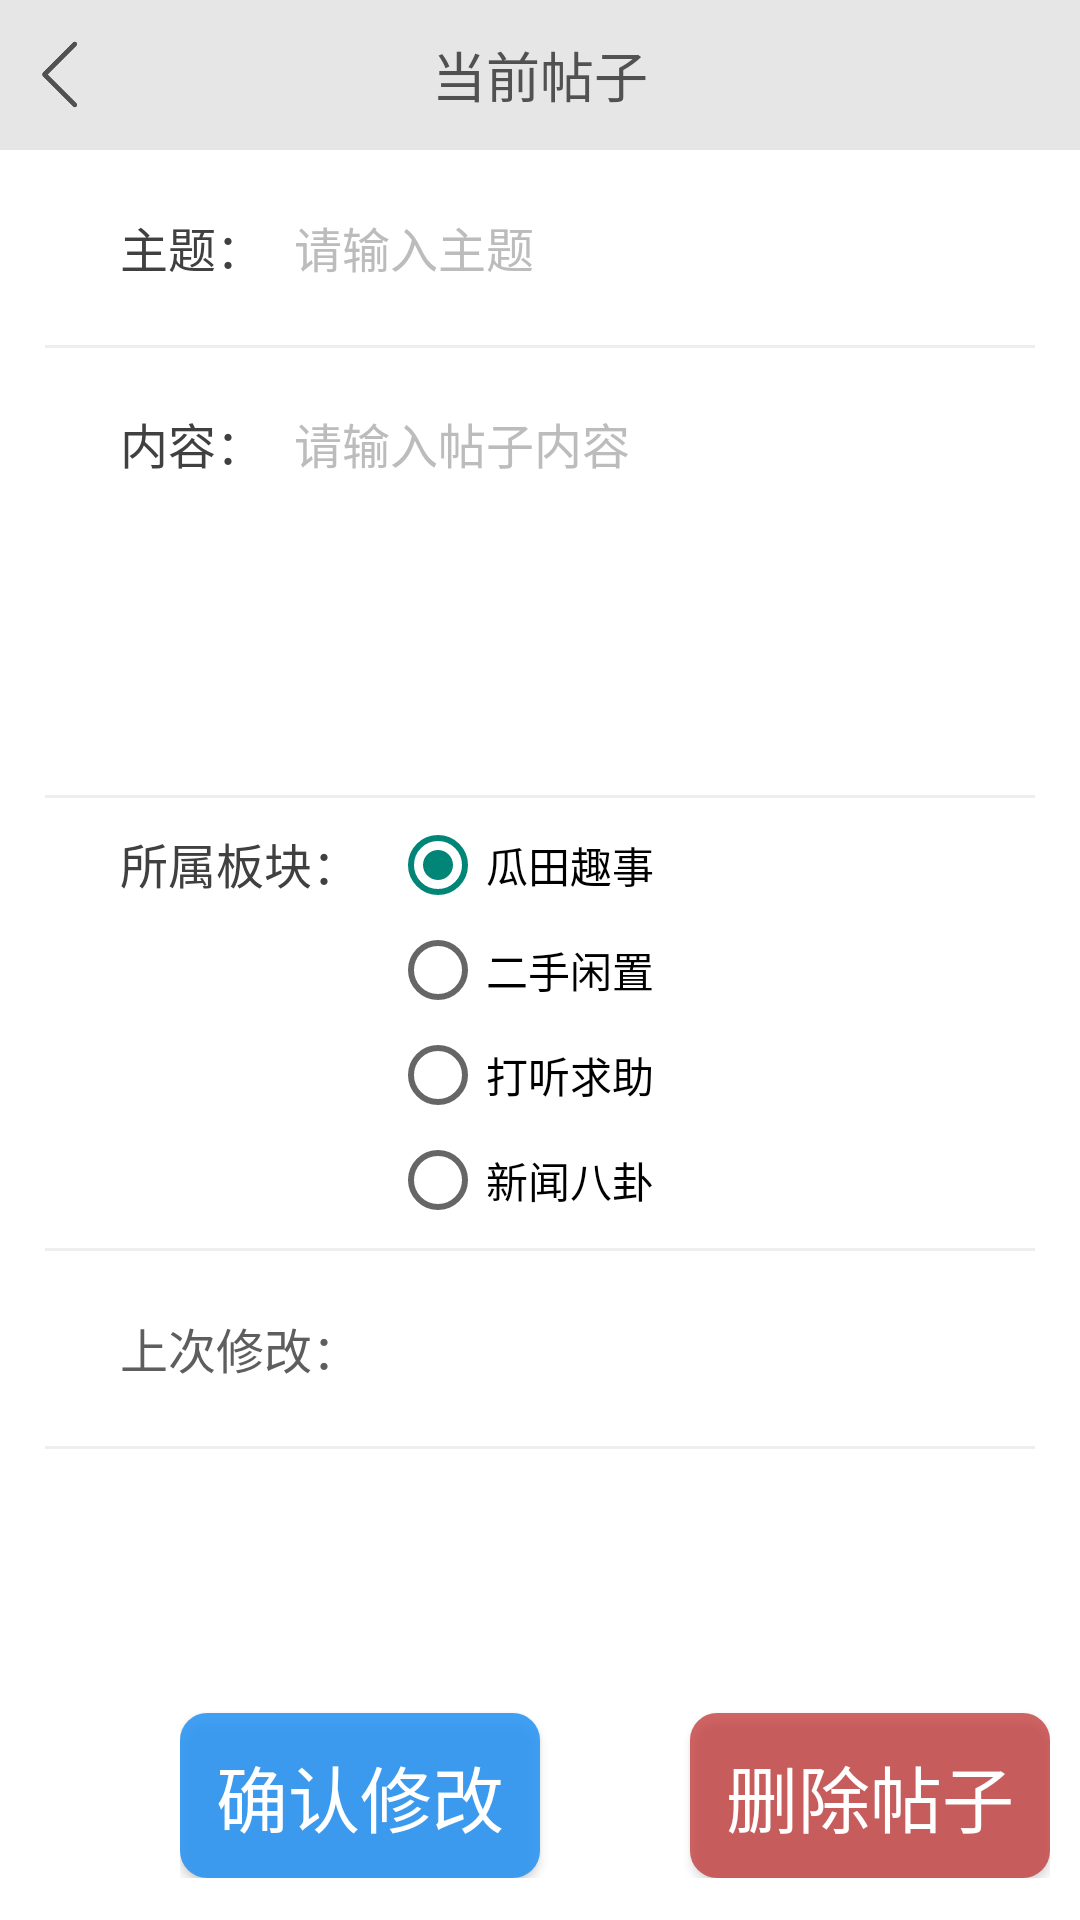

Where to tap for icons on this 1080px x 1920px app screen, as (x,y):
back: (59,74)
